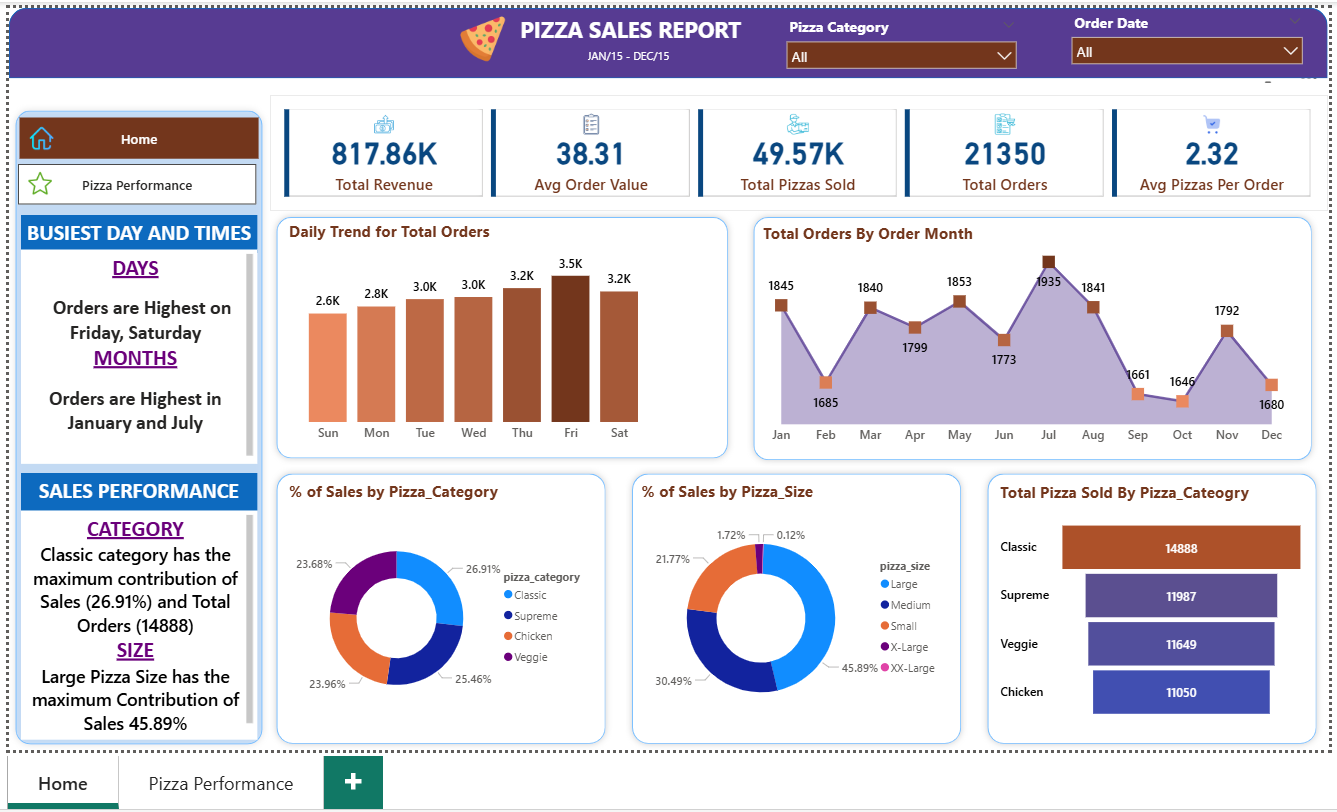

This screenshot's page, from the dashboard's own definition file:
{"tool":"powerbi","page":{"name":"Home","canvas":[1600,900],"ordinal":0},"visuals":[{"type":"shape","box":[0,115.5,315.4,784.8],"z":0},{"type":"cardVisual","fields":{"Data":["pizza_sales.Total Revenue","pizza_sales.Avg Order Value","pizza_sales.Total Pizzas Sold","pizza_sales.Total Orders","pizza_sales.Avg Pizzas Per Order"]},"box":[316.8,105.6,1281.7,140.8],"z":1000},{"type":"shape","box":[0,0,1599.4,85.2],"z":2000},{"type":"textbox","box":[613.3,1.9,282,51.1],"z":3000},{"type":"textbox","box":[696.5,43.5,115.5,30.3],"z":4000},{"type":"image","box":[535.6,9.5,79.5,56.8],"z":5000},{"type":"shape","box":[316.8,245.9,563.2,308.5],"z":6000},{"type":"columnChart","title":"Daily Trend for Total Orders","fields":{"Category":["Date Table.Day Name"],"Y":["pizza_sales.Total Orders"]},"box":[335.4,258.8,457.6,277.5],"z":7000},{"type":"shape","box":[894.5,244.8,693,310.6],"z":8000},{"type":"areaChart","title":"Total Orders By Order Month","fields":{"Category":["Date Table.Month Name"],"Y":["pizza_sales.Total Orders"]},"box":[909,260.9,648.1,277.5],"z":9000},{"type":"shape","box":[316.8,556.3,415,343.7],"z":10000},{"type":"shape","box":[747.5,556.3,415,343.7],"z":11000},{"type":"shape","box":[1178.2,556.3,415,343.7],"z":12000},{"type":"donutChart","title":"% of Sales by Pizza_Category","fields":{"Y":["pizza_sales.Total Revenue"],"Category":["pizza_sales.pizza_category"]},"box":[335.4,573.6,378.9,308.5],"z":13000},{"type":"donutChart","title":"% of Sales by Pizza_Size","fields":{"Y":["pizza_sales.Total Revenue"],"Category":["pizza_sales.pizza_size"]},"box":[762,573.6,378.9,308.5],"z":14000},{"type":"funnel","title":"Total Pizza Sold By Pizza_Cateogry","fields":{"Category":["pizza_sales.pizza_category"],"Y":["pizza_sales.Total Pizzas Sold"]},"box":[1196.8,575.6,378.9,308.5],"z":15000},{"type":"textbox","box":[14.4,250.4,286.5,45.7],"z":16000},{"type":"textbox","box":[14.4,293.7,286.5,260],"z":17000},{"type":"textbox","box":[14.4,563.3,286.5,45.7],"z":18000},{"type":"textbox","box":[14.4,609,286.5,278],"z":19000},{"type":"slicer","fields":{"Values":["pizza_sales.pizza_category"]},"box":[934,4.8,298.5,74.6],"z":20000},{"type":"slicer","fields":{"Values":["pizza_sales.order_date"]},"box":[1279.6,0,300.2,84.9],"z":21000},{"type":"pageNavigator","box":[12.4,132.5,290,50],"z":22000},{"type":"pageNavigator","box":[10.4,188.4,289.9,49.7],"z":23000},{"type":"image","box":[14.5,142.9,49.7,29],"z":24000},{"type":"image","box":[12.4,198.8,49.7,29],"z":25000}]}

Visuals, with their boxes on the page's 1600x900 design canvas (x1, y1, x2, y2). These are canvas units, not pixel positions in the 1337x812 screenshot, which may show the page scaled, cropped or inside an application window:
shape: 0 116 315 900
cardVisual - pizza_sales.Total Revenue x pizza_sales.Avg Order Value: 317 106 1598 246
shape: 0 0 1599 85
textbox: 613 2 895 53
textbox: 696 44 812 74
image: 536 10 615 66
shape: 317 246 880 554
"Daily Trend for Total Orders" columnChart: 335 259 793 536
shape: 894 245 1588 555
"Total Orders By Order Month" areaChart: 909 261 1557 538
shape: 317 556 732 900
shape: 748 556 1162 900
shape: 1178 556 1593 900
"% of Sales by Pizza_Category" donutChart: 335 574 714 882
"% of Sales by Pizza_Size" donutChart: 762 574 1141 882
"Total Pizza Sold By Pizza_Cateogry" funnel: 1197 576 1576 884
textbox: 14 250 301 296
textbox: 14 294 301 554
textbox: 14 563 301 609
textbox: 14 609 301 887
slicer - pizza_sales.pizza_category: 934 5 1232 79
slicer - pizza_sales.order_date: 1280 0 1580 85
pageNavigator: 12 132 302 182
pageNavigator: 10 188 300 238
image: 14 143 64 172
image: 12 199 62 228
